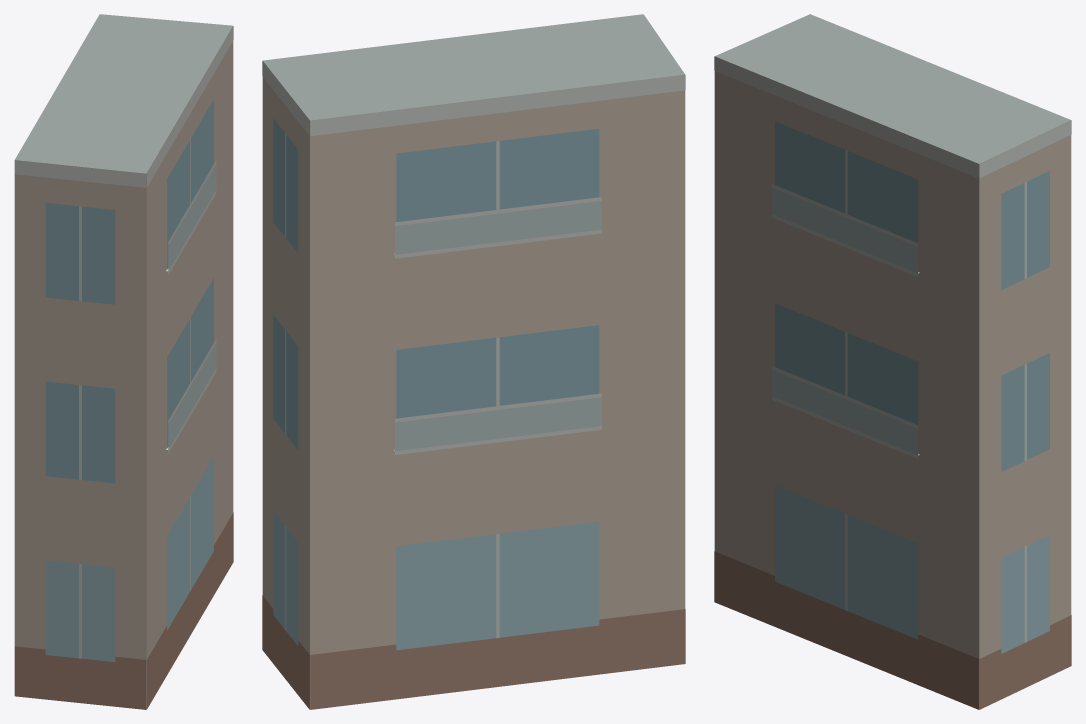
File: survey-upis-32477104.glb
3 views of the same model, side by side, from view 1: azimuth 30°, elevation 25°; view 2: azimuth 150°, elevation 25°; view 3: azimuth 270°, elevation 25° (orthographic). The views are drawn at different scales.
Parts seen in each view (by area): view 1: survey-upis-32477104.tmp; view 2: survey-upis-32477104.tmp; view 3: survey-upis-32477104.tmp.
Part boxes in pixels (bbox=[...]): survey-upis-32477104.tmp: bbox=[14, 14, 233, 709]; survey-upis-32477104.tmp: bbox=[262, 14, 685, 709]; survey-upis-32477104.tmp: bbox=[714, 14, 1071, 709].
Size of the model in its own units: 5.4 by 9.15 by 5.43.
